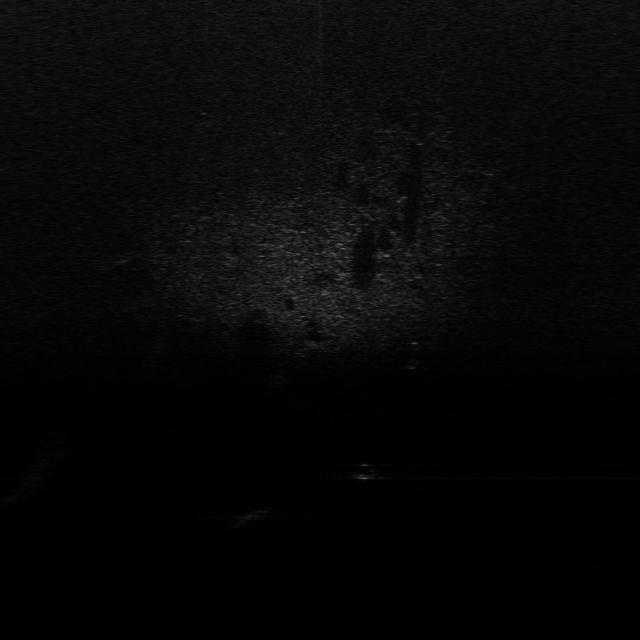ball: (350, 462, 380, 482)
square cage: (231, 504, 278, 527)
tyre: (401, 338, 432, 371)
